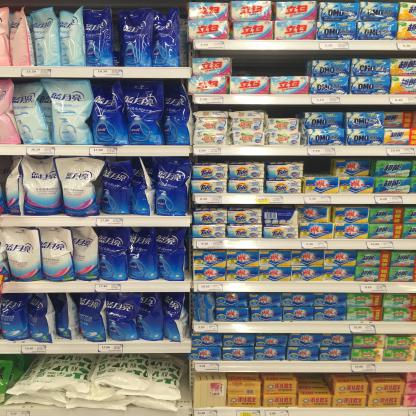Void: (230, 55, 305, 76), (300, 374, 326, 390), (306, 158, 330, 173), (264, 107, 299, 117)
